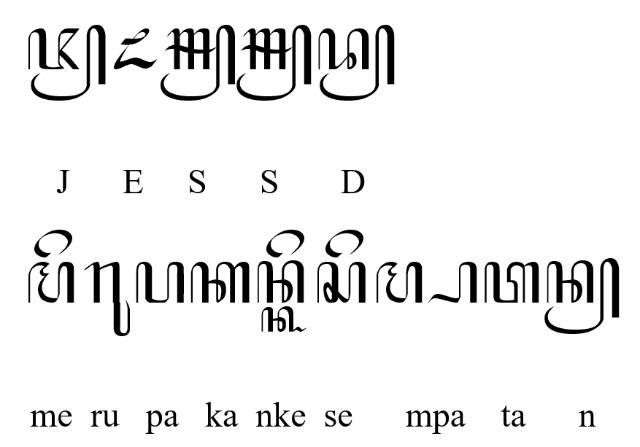-S: (234, 24, 312, 102), (160, 24, 236, 102)
-d: (318, 23, 394, 101)
-j: (27, 23, 107, 101)
-n: (542, 257, 620, 335)
E: (113, 28, 159, 70)
_k: (262, 306, 308, 334)
_p: (427, 260, 477, 304)
e: (324, 228, 366, 258), (33, 230, 73, 260), (266, 229, 304, 257)
k: (190, 261, 250, 305)
m: (376, 260, 424, 304), (27, 262, 75, 304)
n: (256, 260, 304, 303)
p: (135, 261, 185, 305)
ru: (84, 260, 130, 338)
s: (316, 260, 366, 304)
t: (482, 260, 540, 304)
